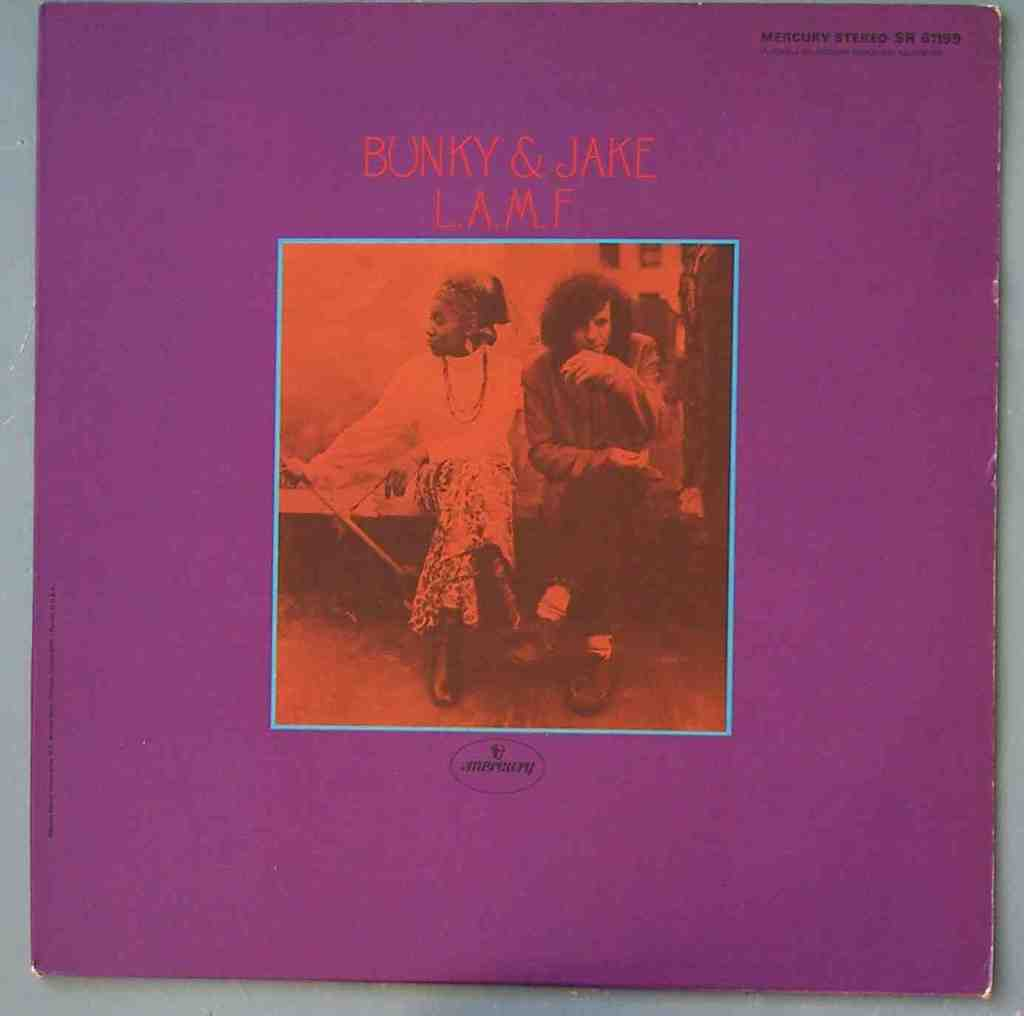Person: (279, 270, 545, 705), (512, 268, 667, 712)
